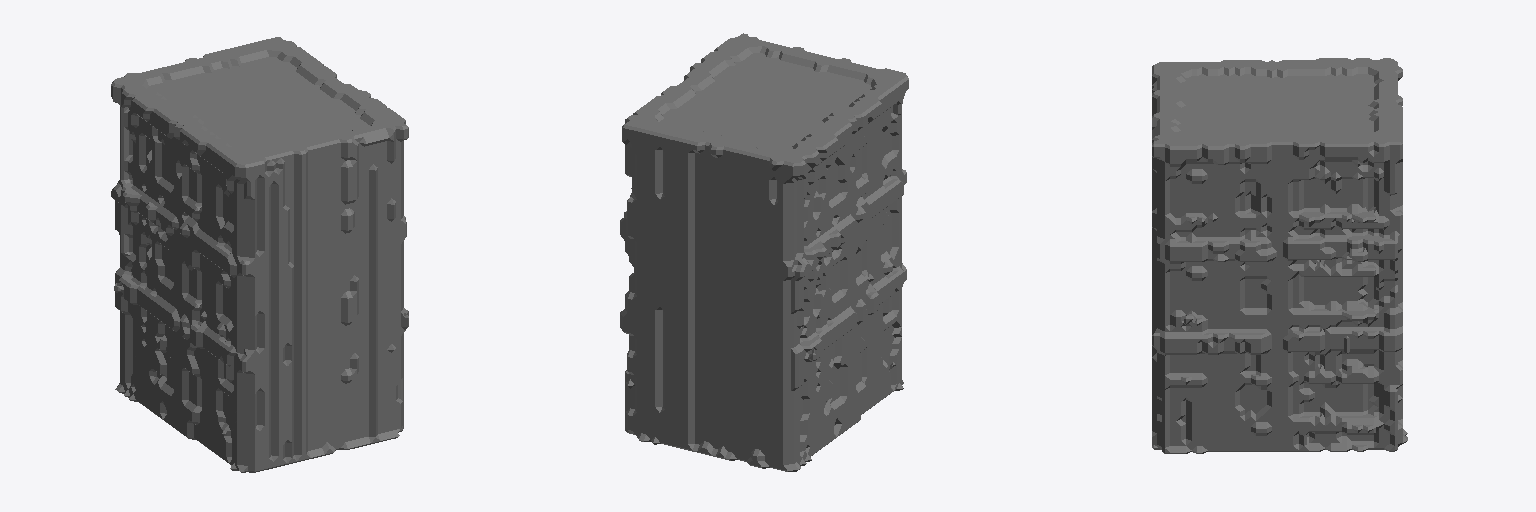
File: gen6_colored.obj
3 renders of one model, left to right at view 1: azimuth 30°, elevation 25°; view 2: azimuth 150°, elevation 25°; view 3: azimuth 270°, elevation 25°, orthographic.
Parts seen in each view (by area): view 1: gen6.obj; view 2: gen6.obj; view 3: gen6.obj.
Boxes of the visible parts, box(x1,y1,x2,y2) form: gen6.obj: box(111, 37, 408, 472); gen6.obj: box(620, 33, 908, 471); gen6.obj: box(1152, 58, 1407, 453).
Bounding box in the file's own units: 41 × 64 × 48.